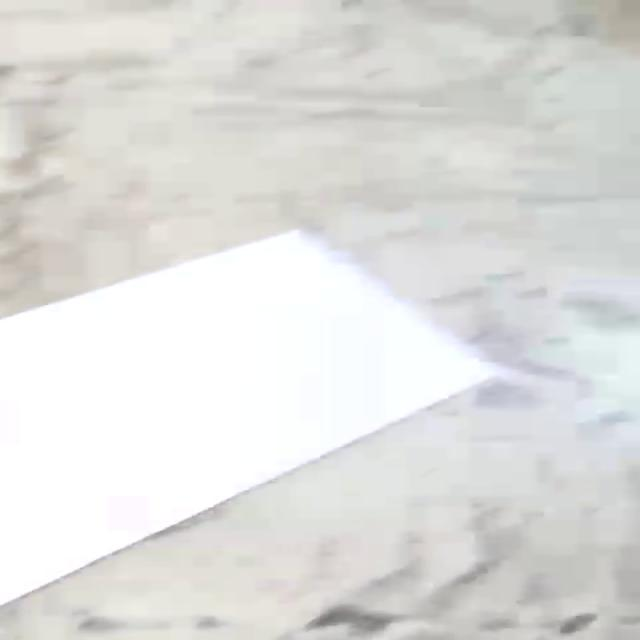road: (0, 229, 496, 608)
